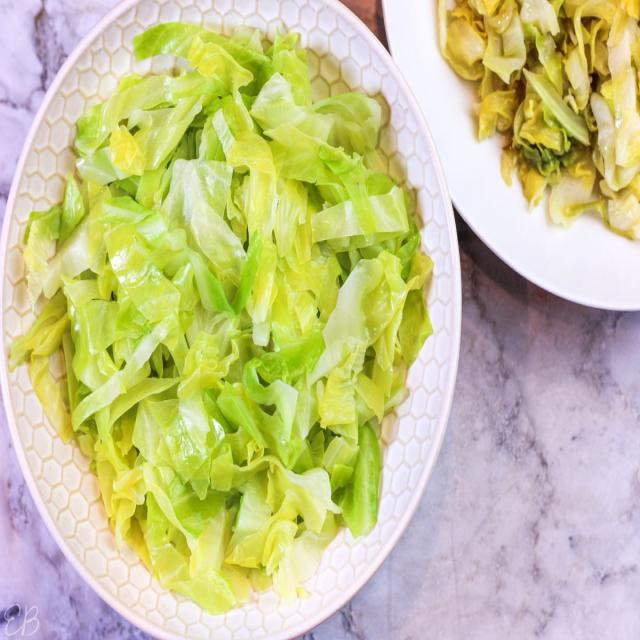bap cai xao: (10, 23, 431, 614)
